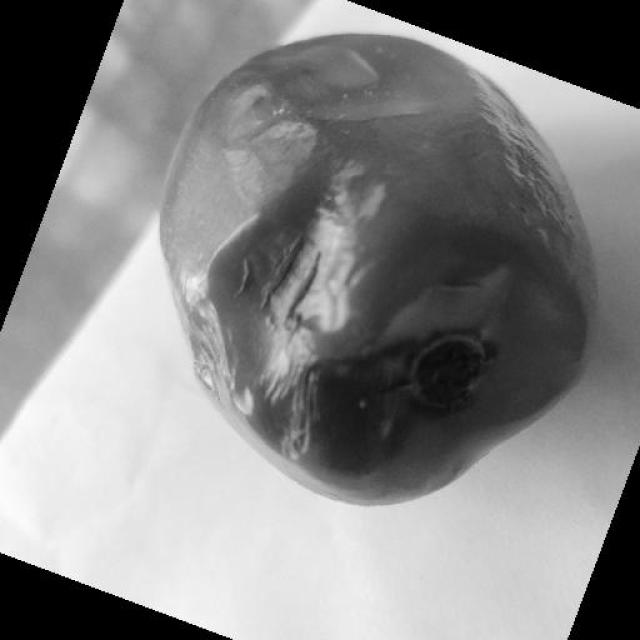Stale_tomato: (158, 50, 580, 491)
